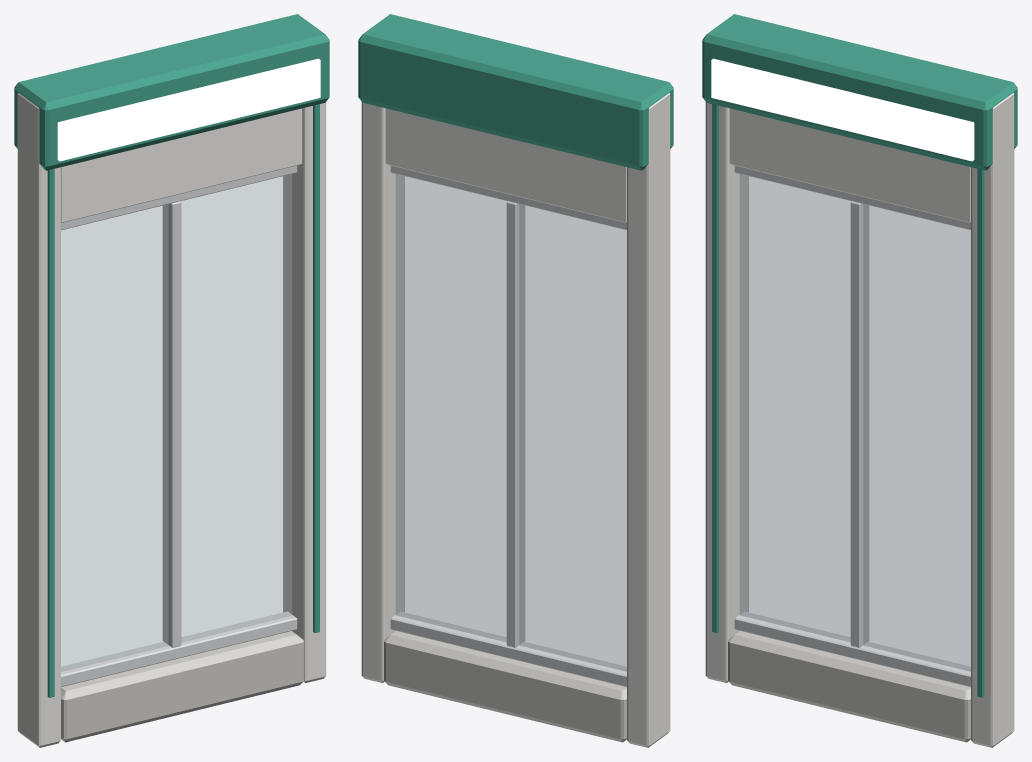
File: petrol-station-and-forecourt-shop-shop-facade-bay-glaz-d2751295__33958.glb
The picture shows the model from 3 angles, left to right: view 1: azimuth 30°, elevation 25°; view 2: azimuth 150°, elevation 25°; view 3: azimuth 330°, elevation 25°; orthographic projection.
Parts seen in each view (by area): view 1: shop-facade-bay-glazed; view 2: shop-facade-bay-glazed; view 3: shop-facade-bay-glazed.
Boxes of the visible parts, x1,y1,x2,y2 form: shop-facade-bay-glazed: (14,14,329,747); shop-facade-bay-glazed: (358,14,673,747); shop-facade-bay-glazed: (702,14,1017,747).
Bounding box in the file's own units: 1.5 × 3.22 × 0.31.
